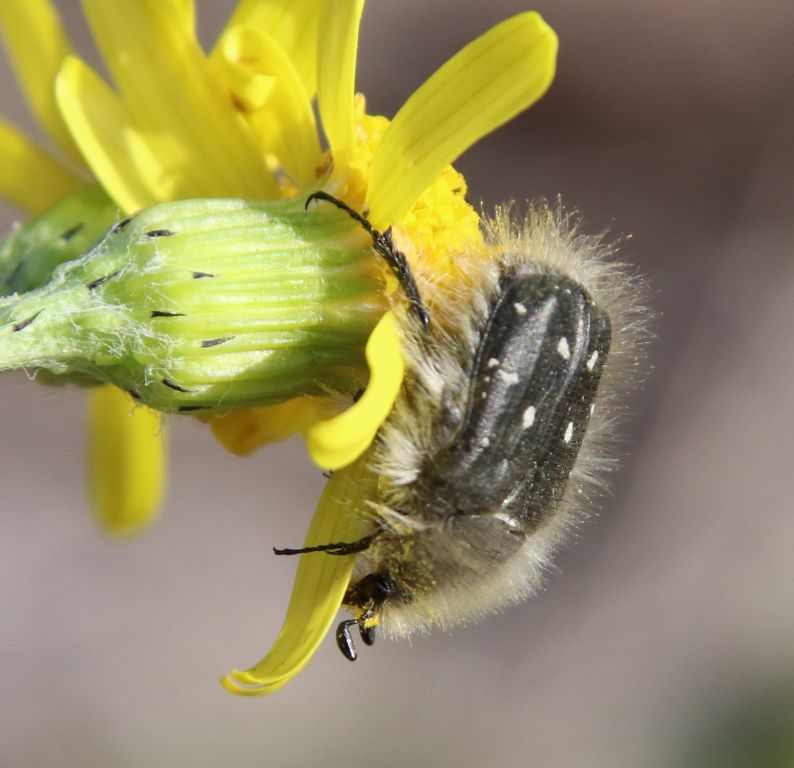Tropinota_hirta: (267, 172, 689, 658)
